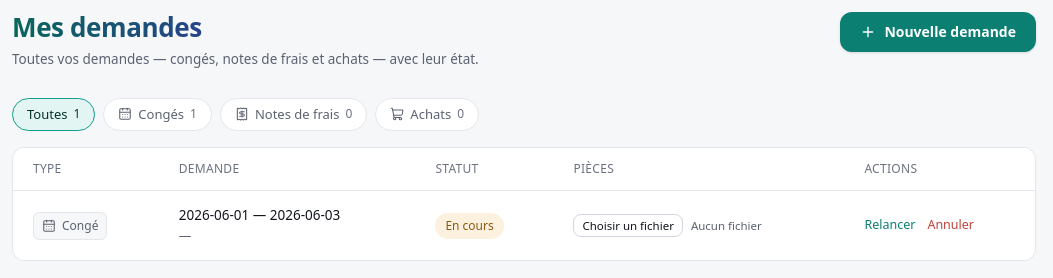
MesDemandesPage — congés › relancer affiche le retour du backend sans recharger la liste (le statut ne change pas)
The image size is (1053, 278).
Click the button "Relancer" at [890, 226], box [864, 216, 915, 235]
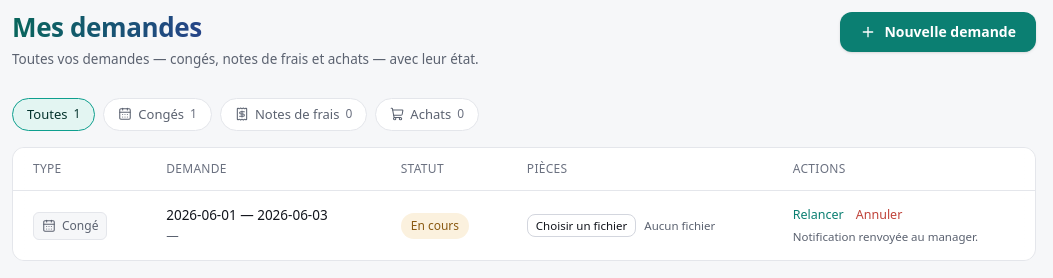
Now the text "Notification renvoyée au manager." is shown, box [793, 228, 978, 246]
